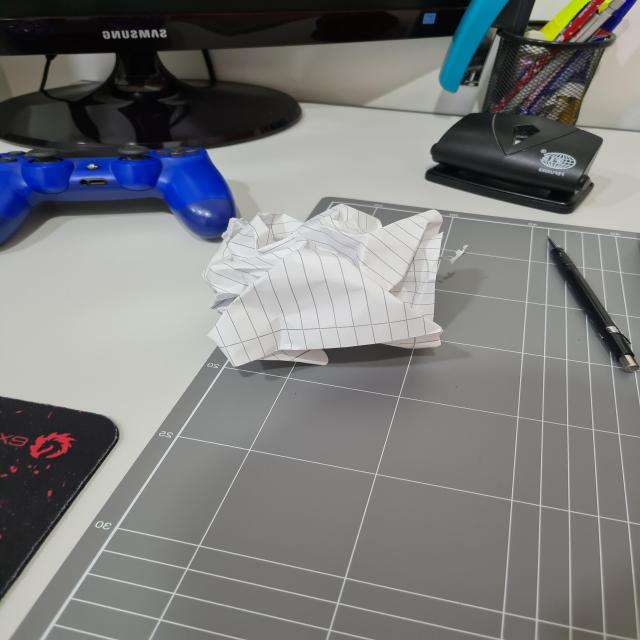paper: (206, 197, 463, 372)
